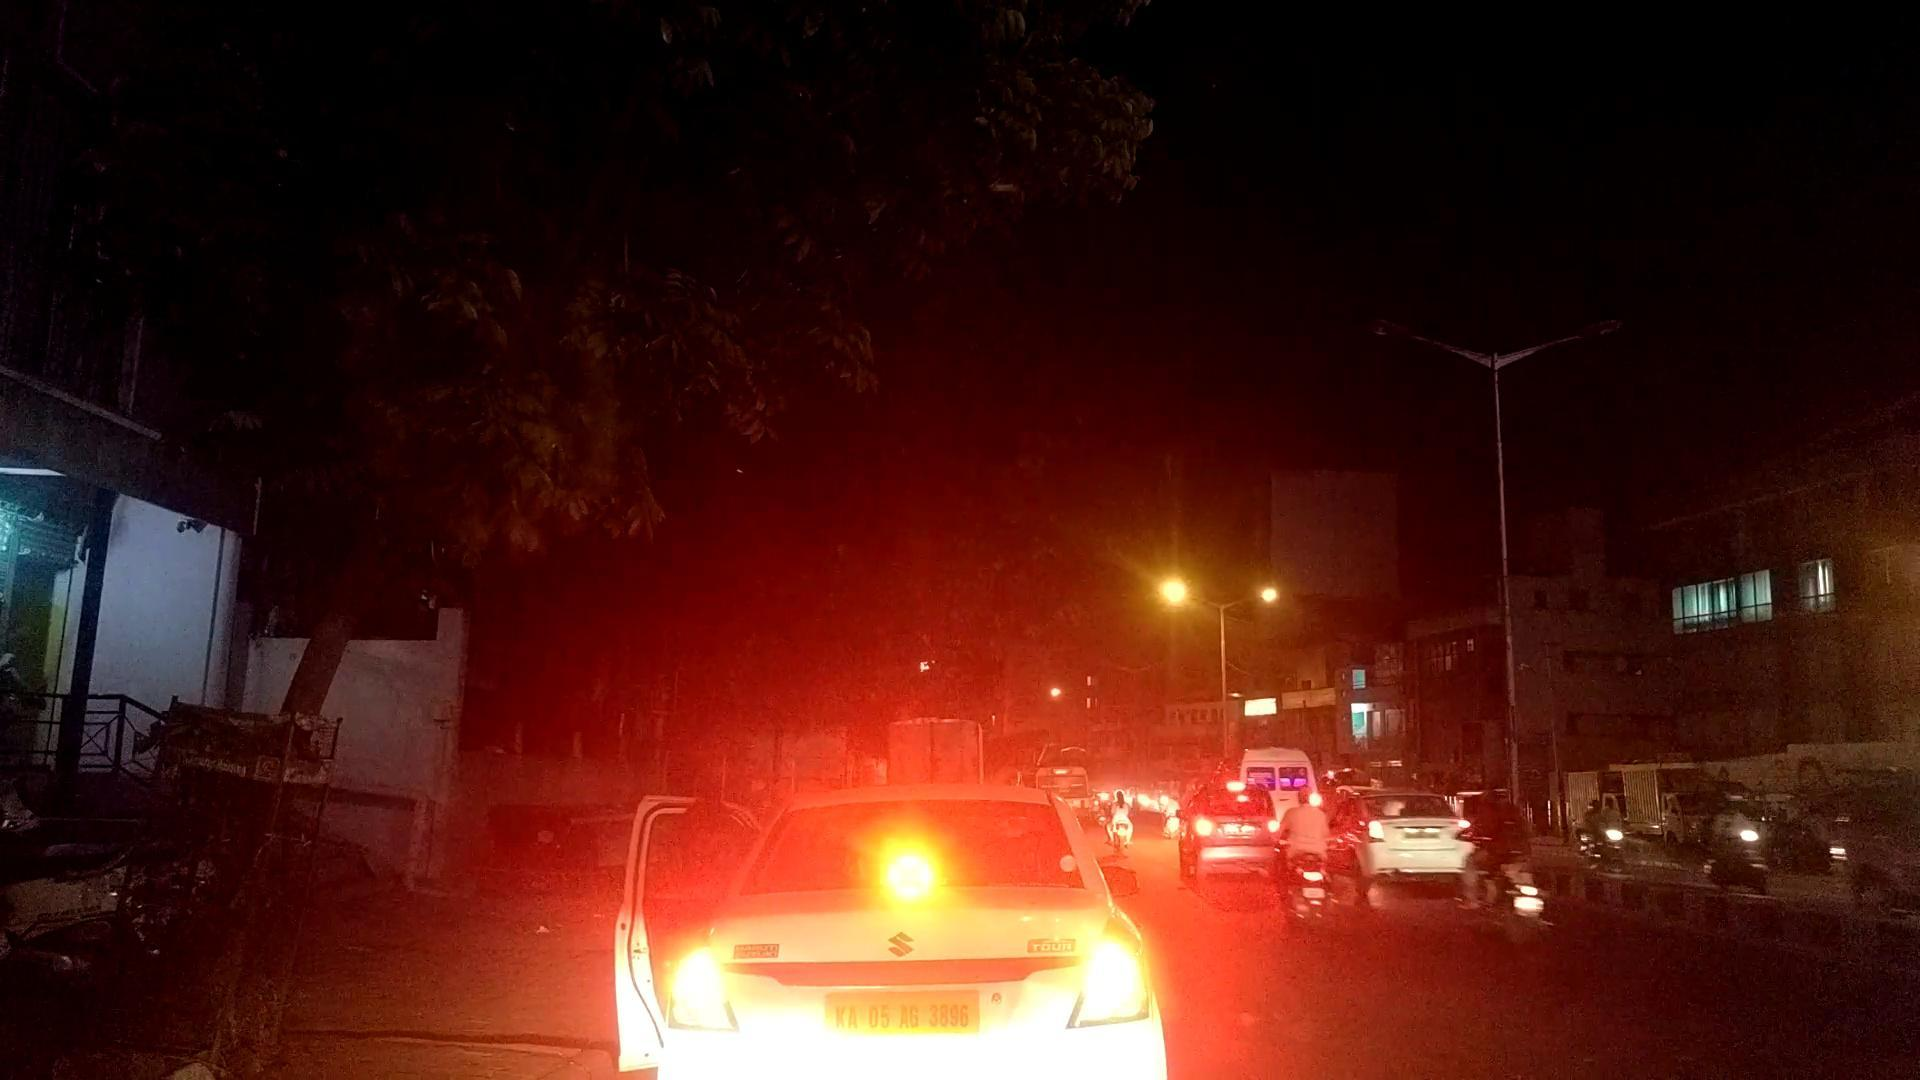on: (880, 402, 1623, 931)
